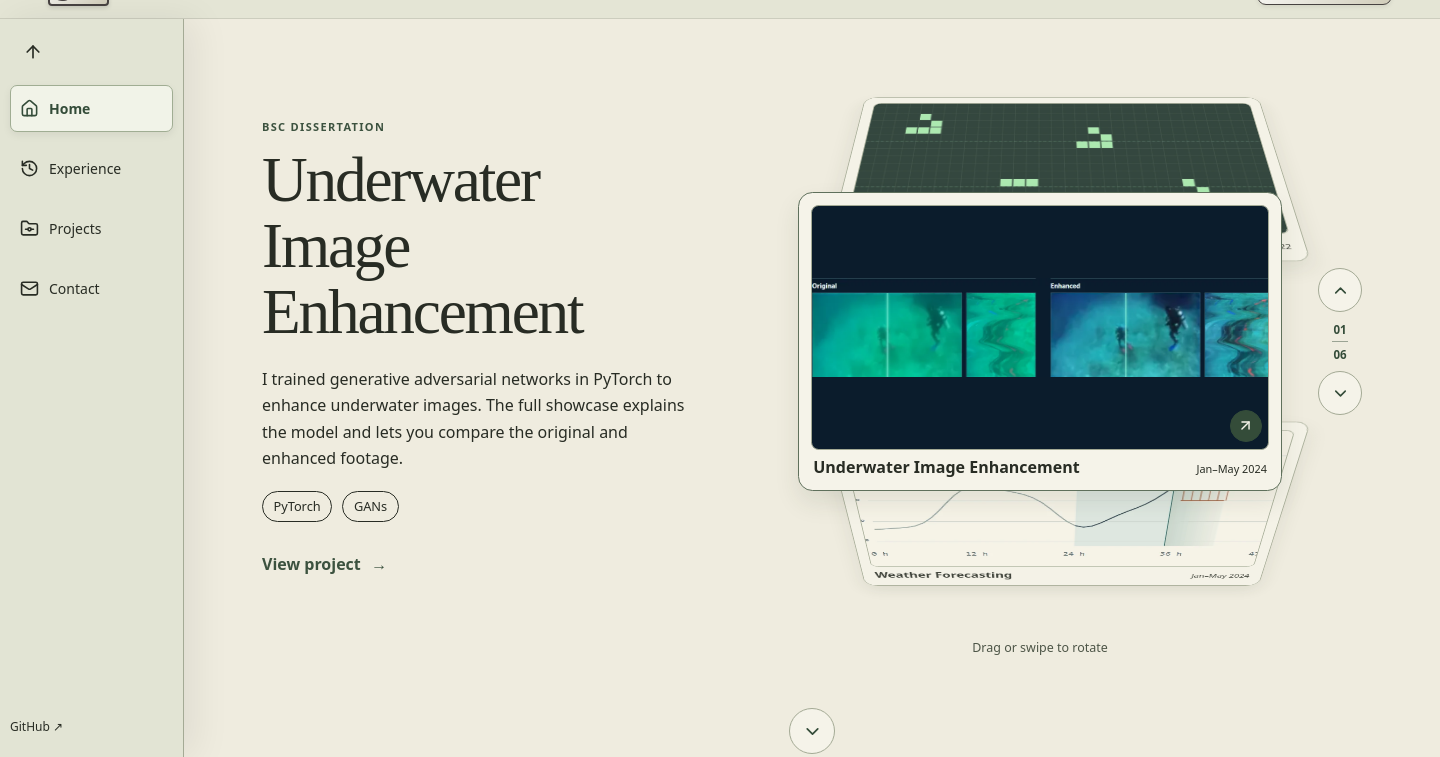
Test: the project wheel wraps in both directions with keyboard and buttons
The width and height of the screenshot is (1440, 757).
(page scrolled)
Press ArrowUp in the element named "Browse projects"
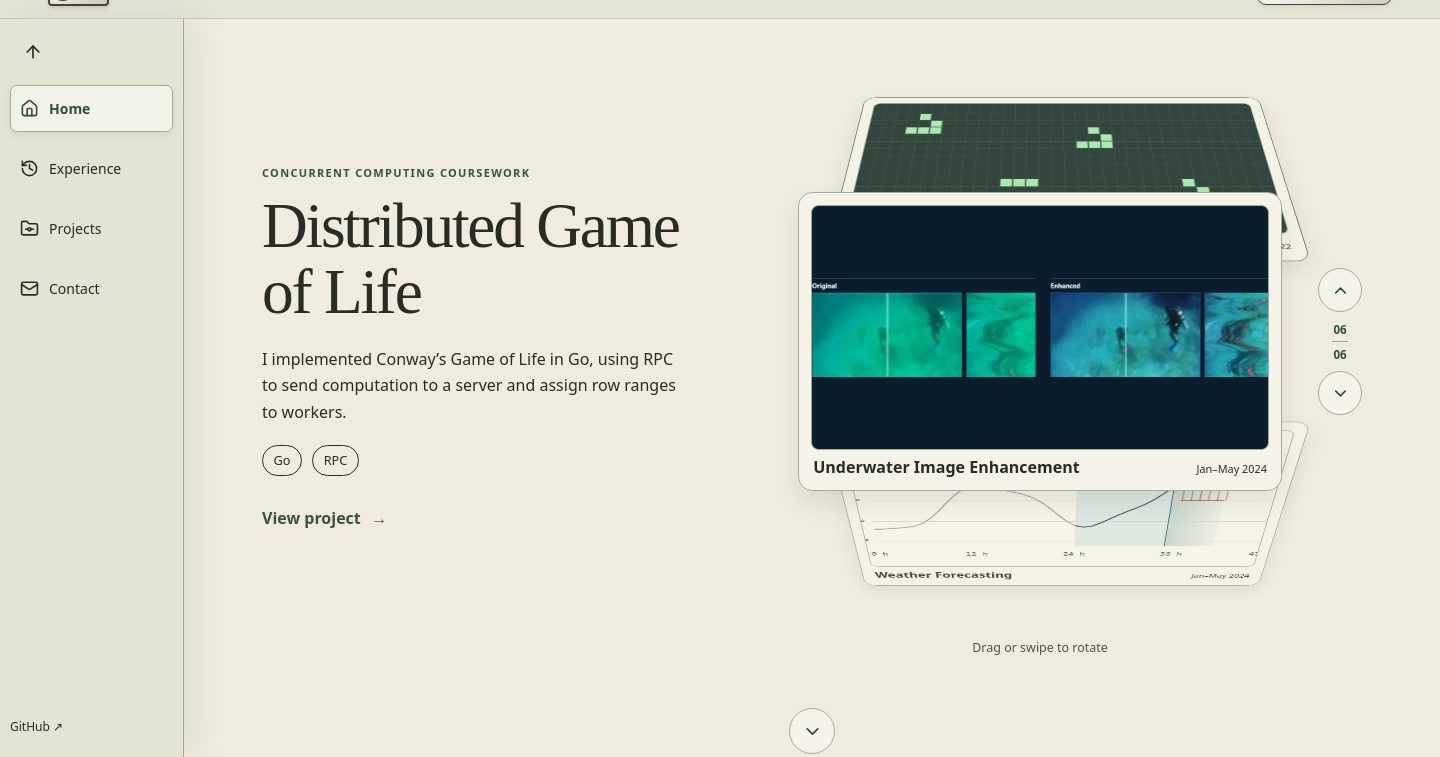
Check: the heading "Distributed Game of Life" is shown, box [262,194,699,326]
Click the button named "Next project".
click(1340, 394)  # box [1318,372,1362,416]
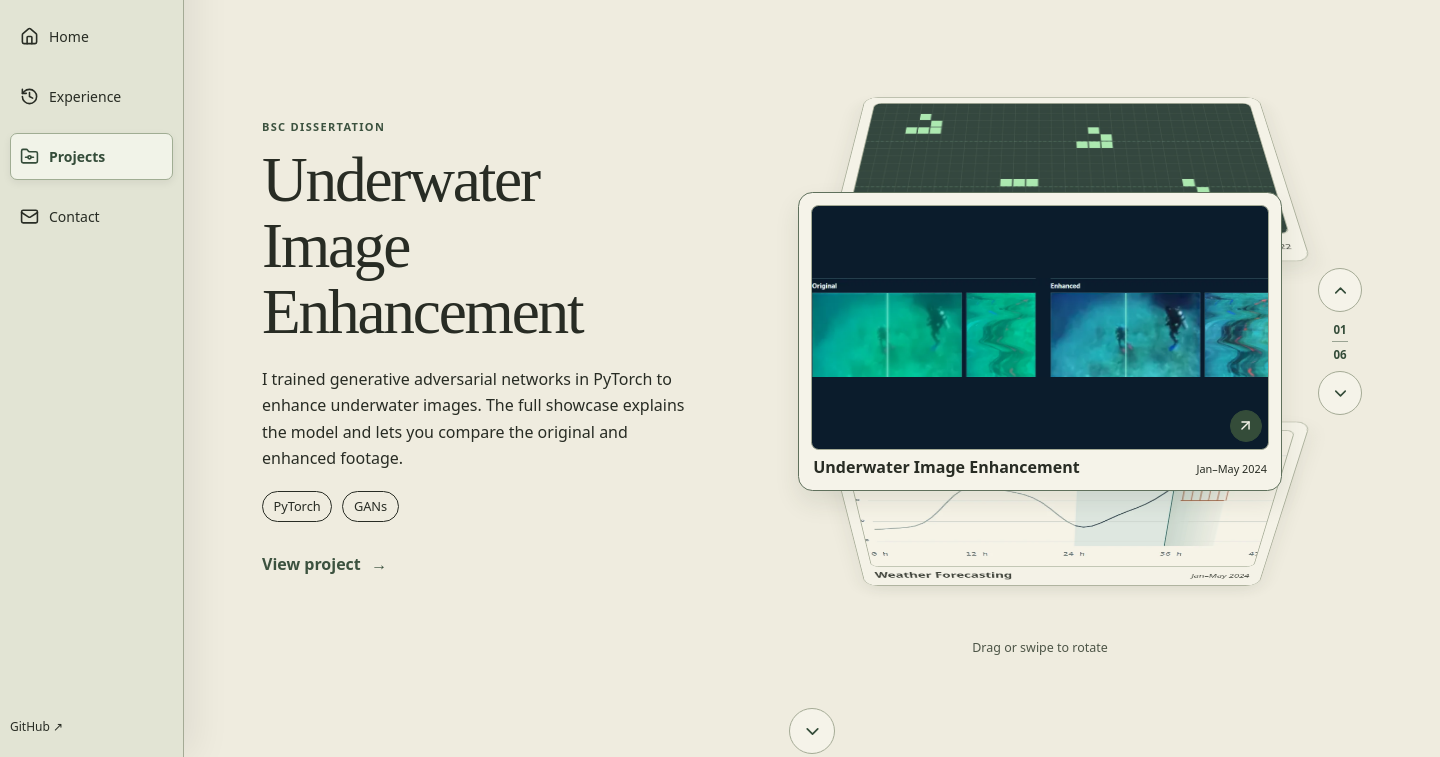
Check: the link with aria-label "View project: Underwater Image Enhancement" has attribute href="/projects/underwater-image-enhancement", box [262,553,387,575]
